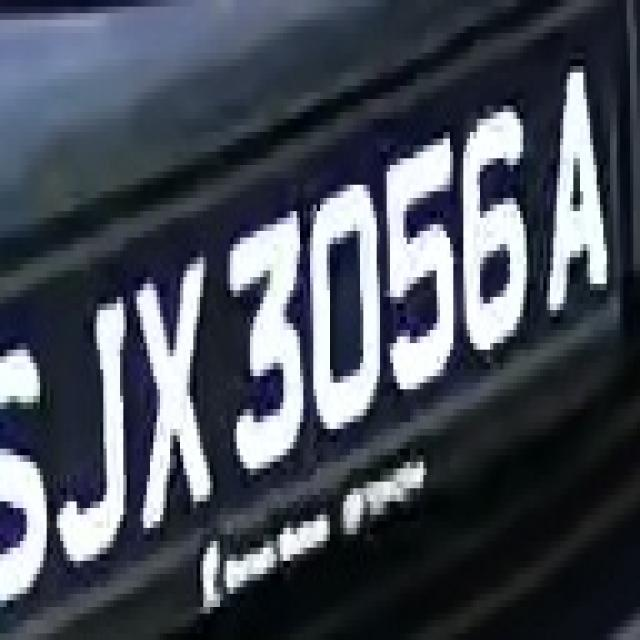0: (296, 152, 376, 442)
3: (224, 185, 304, 495)
5: (373, 119, 467, 409)
6: (457, 86, 540, 369)
A: (530, 40, 617, 356)
J: (50, 264, 133, 587)
S: (3, 297, 57, 614)
X: (130, 231, 213, 548)
